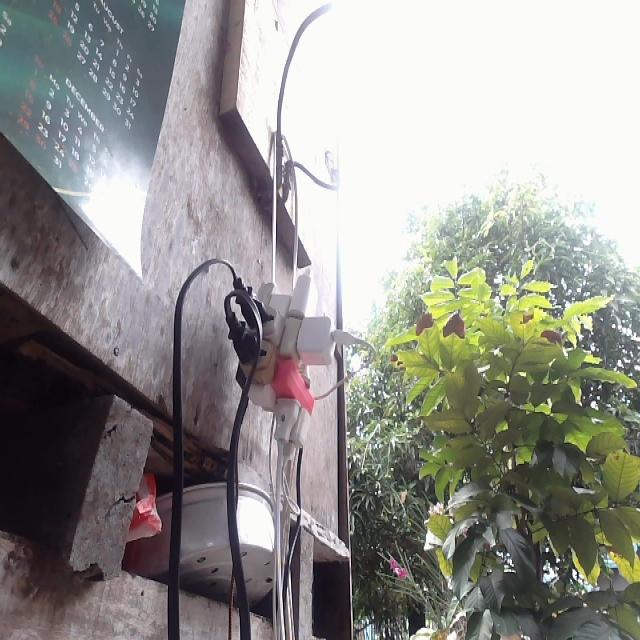-: (221, 272, 344, 457)
